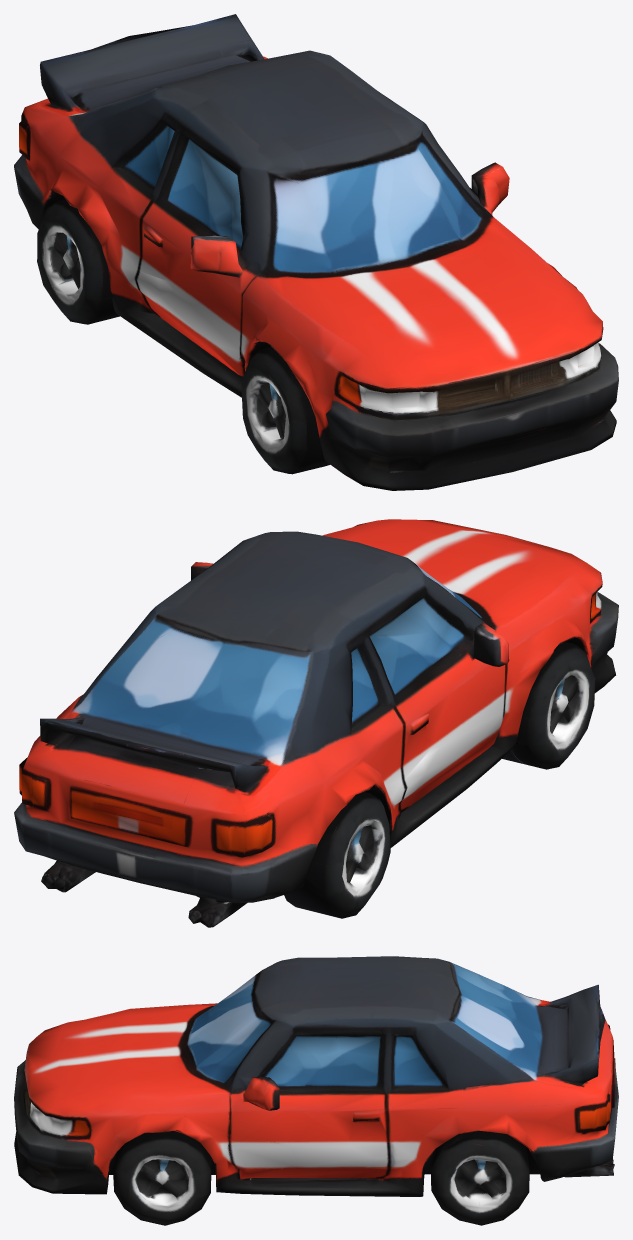
Rendered from taxi.glb.
3 views of the same model, one above another, from view 1: azimuth 30°, elevation 25°; view 2: azimuth 150°, elevation 25°; view 3: azimuth 270°, elevation 25° (orthographic). The views are drawn at different scales.
Parts seen in each view (by area): view 1: world; view 2: world; view 3: world.
Part boxes in pixels (bbox=[...]): world: bbox=[14, 14, 618, 490]; world: bbox=[14, 519, 618, 927]; world: bbox=[14, 956, 618, 1225].
Size of the model in its own units: 0.4697 by 0.3508 by 1.
Materials: 1 (1 with a texture image).
